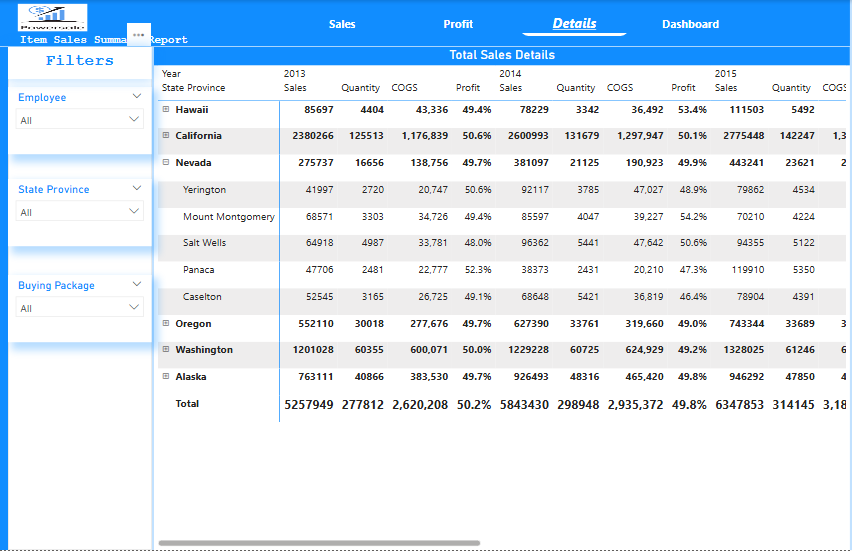

What the dashboard file says about the page in this screenshot:
{"tool":"powerbi","page":{"name":"Details","canvas":[1280,720],"ordinal":2},"visuals":[{"type":"shape","box":[0,61.1,12.2,658.9],"z":3000},{"type":"shape","box":[12.2,61.1,187.8,473.3],"z":4000},{"type":"shape","box":[0,0,1114.4,61.1],"z":4500},{"type":"textbox","box":[22,36,244.4,32],"z":4625},{"type":"image","box":[20,0,101.1,45.6],"z":4750},{"type":"pivotTable","title":"Total Sales Details","fields":{"Values":["Sum(FactSale.Total Excluding Tax)","Sum(FactSale.Quantity)","FactSale.COGS","FactSale.Profitabilty"],"Rows":["DimCity.State Province Hierarchy.State Province","DimCity.State Province Hierarchy.City"],"Columns":["DimDate.Date.Variation.Date Hierarchy.Year","DimDate.Date.Variation.Date Hierarchy.Quarter","DimDate.Date.Variation.Date Hierarchy.Month","DimDate.Date.Variation.Date Hierarchy.Day"]},"box":[203.3,61.1,911.1,658.9],"z":5000},{"type":"shape","box":[12.2,61.1,187.8,658.9],"z":6000},{"type":"slicer","fields":{"Values":["DimEmployee.Employee"]},"box":[12.2,114.4,187.8,87.8],"z":7000},{"type":"textbox","box":[12.2,61.1,187.8,42.2],"z":8000},{"type":"slicer","title":"State","fields":{"Values":["DimCity.State Province"]},"box":[12.2,234.4,187.8,87.8],"z":9000},{"type":"slicer","fields":{"Values":["DimStockItem.Buying Package"]},"box":[12.2,360,187.8,87.8],"z":10000},{"type":"pageNavigator","box":[377.8,13.3,600,34.4],"z":11000}]}

Visuals, with their boxes on the page's 1280x720 design canvas (x1, y1, x2, y2). These are canvas units, not pixel positions in the 852x551 screenshot, which may show the page scaled, cropped or inside an application window:
shape: (left=0, top=61, right=12, bottom=720)
shape: (left=12, top=61, right=200, bottom=534)
shape: (left=0, top=0, right=1114, bottom=61)
textbox: (left=22, top=36, right=266, bottom=68)
image: (left=20, top=0, right=121, bottom=46)
"Total Sales Details" pivotTable: (left=203, top=61, right=1114, bottom=720)
shape: (left=12, top=61, right=200, bottom=720)
slicer - DimEmployee.Employee: (left=12, top=114, right=200, bottom=202)
textbox: (left=12, top=61, right=200, bottom=103)
"State" slicer: (left=12, top=234, right=200, bottom=322)
slicer - DimStockItem.Buying Package: (left=12, top=360, right=200, bottom=448)
pageNavigator: (left=378, top=13, right=978, bottom=48)
